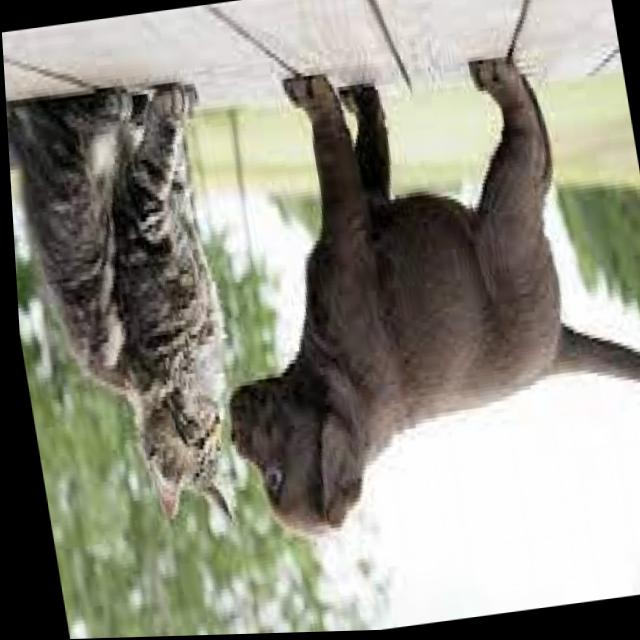Cat: (4, 86, 234, 553)
Dog: (171, 61, 640, 546)
